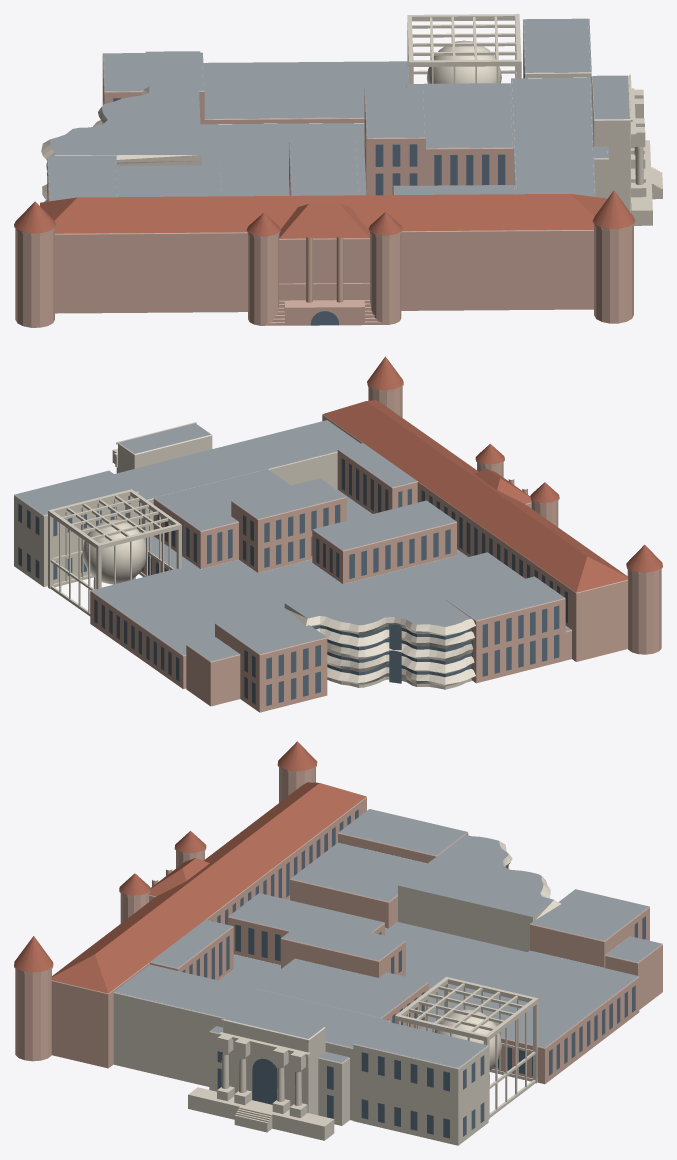
3 views of the same model, one above another, from view 1: azimuth 30°, elevation 25°; view 2: azimuth 150°, elevation 25°; view 3: azimuth 270°, elevation 25° (orthographic). The views are drawn at different scales.
Parts seen in each view (by area): view 1: american-museum-of-natural-history; view 2: american-museum-of-natural-history; view 3: american-museum-of-natural-history.
Boxes of the visible parts, x1=… form: american-museum-of-natural-history: x1=14, y1=14, x2=662, y2=327; american-museum-of-natural-history: x1=14, y1=356, x2=662, y2=712; american-museum-of-natural-history: x1=14, y1=741, x2=662, y2=1145.
Size of the model in its own units: 268 by 48.7 by 243.
